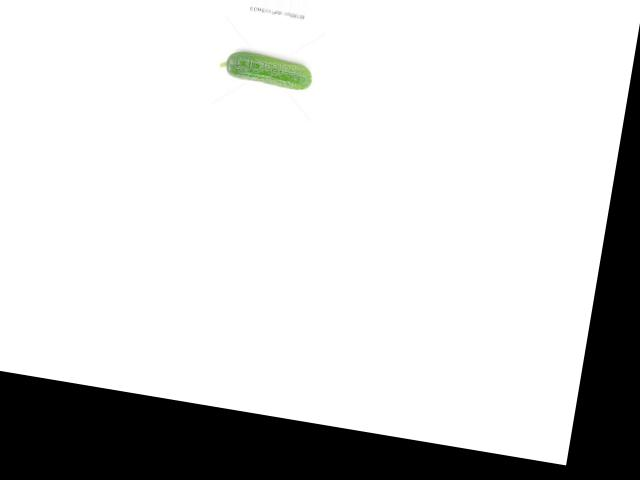cucumber: (218, 47, 315, 91)
